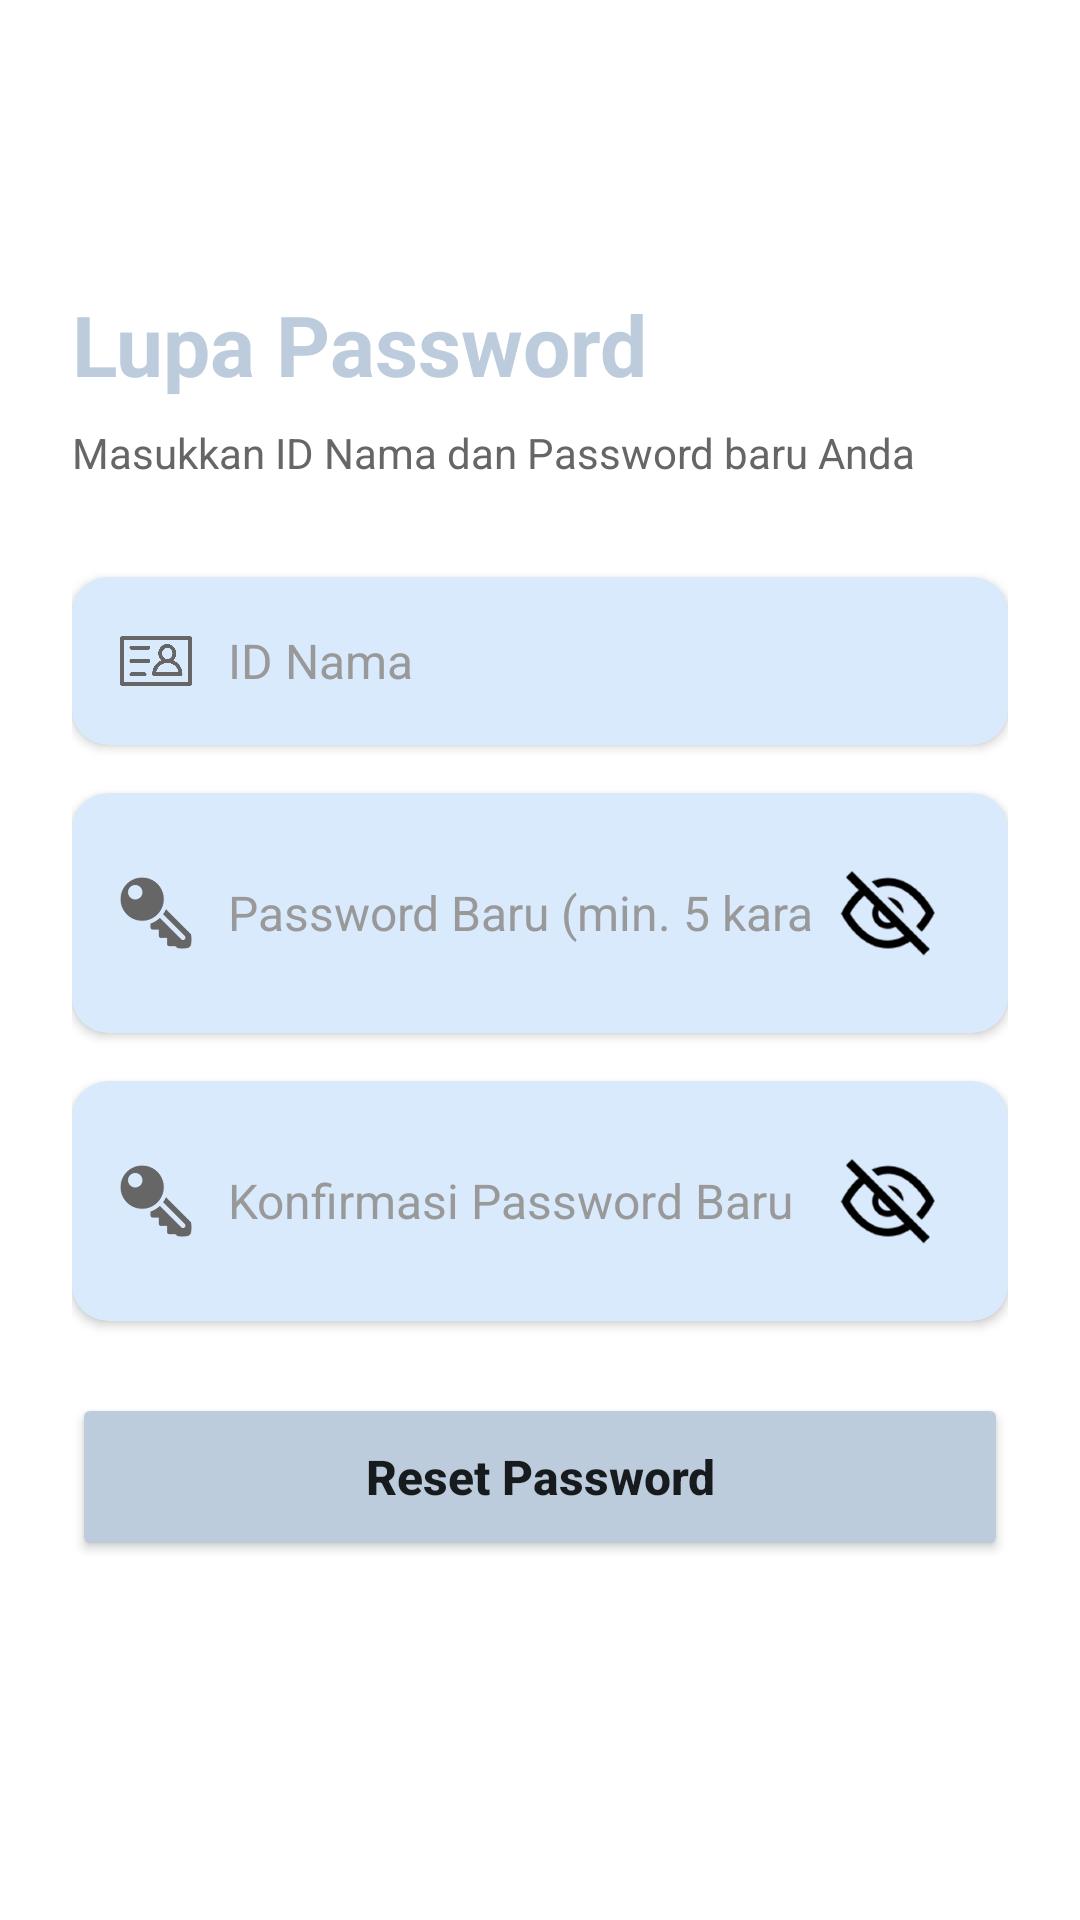

Icon click points for this 1080px x 1920px phone screenshot, format (x=x, y=y):
Icon Confirm Password: (x=156, y=1201)
Toggle Confirm Password: (x=888, y=1201)
Toggle Password: (x=888, y=913)
